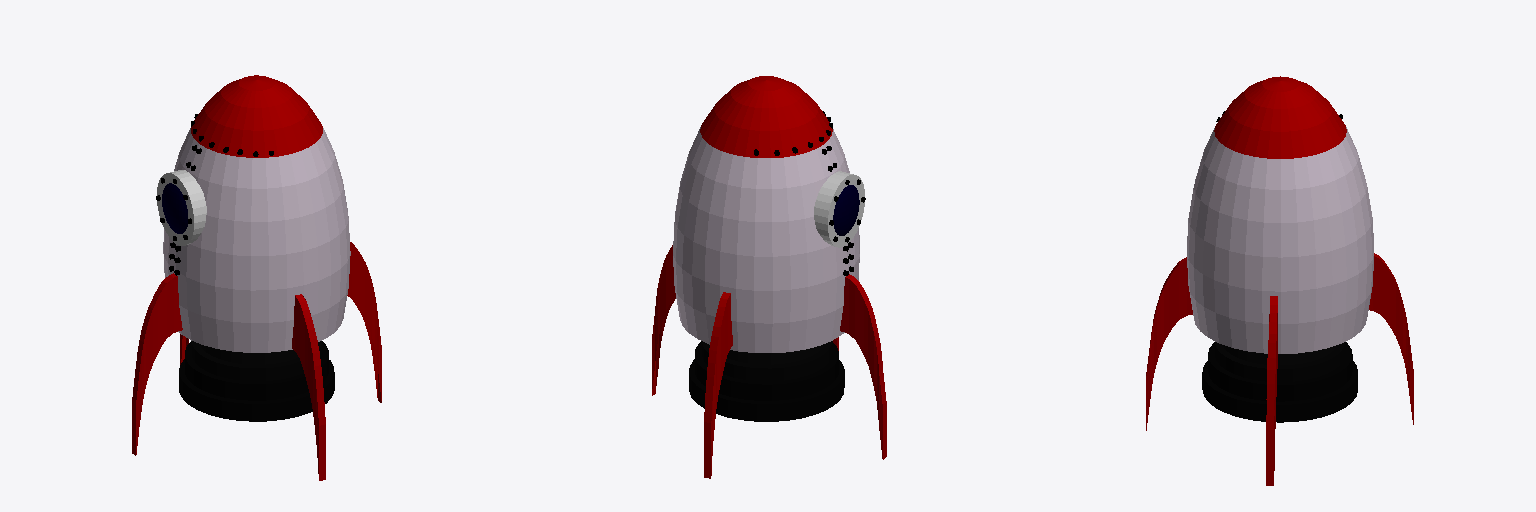
File: RocketShip.obj
The picture shows the model from 3 angles: view 1: azimuth 30°, elevation 25°; view 2: azimuth 150°, elevation 25°; view 3: azimuth 270°, elevation 25°; orthographic projection.
Parts seen in each view (by area): view 1: Sphere.001, Plane.003_Plane.005, Cylinder.003, Cylinder.002, Plane.000_Plane.003, Plane.004_Plane.006, Cylinder.001, Cylinder.004, Cylinder, Sphere_Sphere.002; view 2: Sphere.001, Cylinder.003, Plane.003_Plane.005, Cylinder.002, Plane.002_Plane.004, Cylinder.001, Cylinder.004, Plane.004_Plane.006, Sphere_Sphere.002, Cylinder; view 3: Sphere.001, Cylinder.003, Cylinder.002, Plane.000_Plane.003, Plane.002_Plane.004, Cylinder.001, Plane.004_Plane.006, Cylinder.
Boxes of the visible parts, <box> form: Sphere.001: <box>163,75,350,352</box>; Plane.003_Plane.005: <box>132,273,182,455</box>; Cylinder.003: <box>179,359,334,421</box>; Cylinder.002: <box>185,341,328,400</box>; Plane.000_Plane.003: <box>292,294,325,480</box>; Plane.004_Plane.006: <box>347,242,381,402</box>; Cylinder.001: <box>192,341,321,380</box>; Cylinder.004: <box>157,170,206,245</box>; Cylinder: <box>200,344,297,364</box>; Sphere_Sphere.002: <box>162,183,187,233</box>; Sphere.001: <box>673,76,859,352</box>; Cylinder.003: <box>689,359,844,421</box>; Plane.003_Plane.005: <box>840,274,886,459</box>; Cylinder.002: <box>695,341,838,400</box>; Plane.002_Plane.004: <box>704,292,732,478</box>; Cylinder.001: <box>702,341,831,380</box>; Cylinder.004: <box>814,171,864,247</box>; Plane.004_Plane.006: <box>652,245,675,395</box>; Sphere_Sphere.002: <box>833,185,859,235</box>; Cylinder: <box>727,344,824,364</box>; Sphere.001: <box>1187,76,1373,353</box>; Cylinder.003: <box>1202,361,1357,422</box>; Cylinder.002: <box>1208,342,1352,401</box>; Plane.000_Plane.003: <box>1146,257,1192,430</box>; Plane.002_Plane.004: <box>1369,253,1413,424</box>; Cylinder.001: <box>1215,342,1344,381</box>; Plane.004_Plane.006: <box>1266,296,1277,485</box>; Cylinder: <box>1222,345,1336,364</box>.
Bounding box in the file's own units: 2.93 × 4.13 × 2.85.